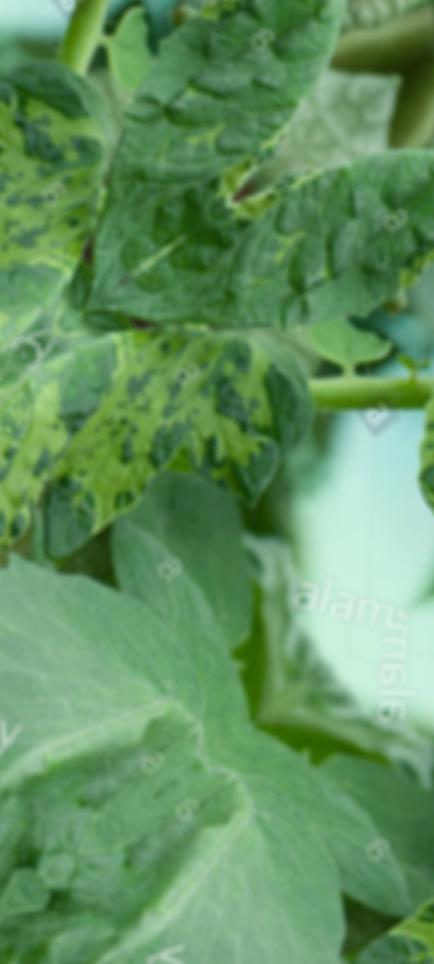Tomato leaf mosaic virus: (0, 195, 373, 764), (102, 21, 434, 546), (0, 452, 266, 943), (335, 296, 434, 563)
